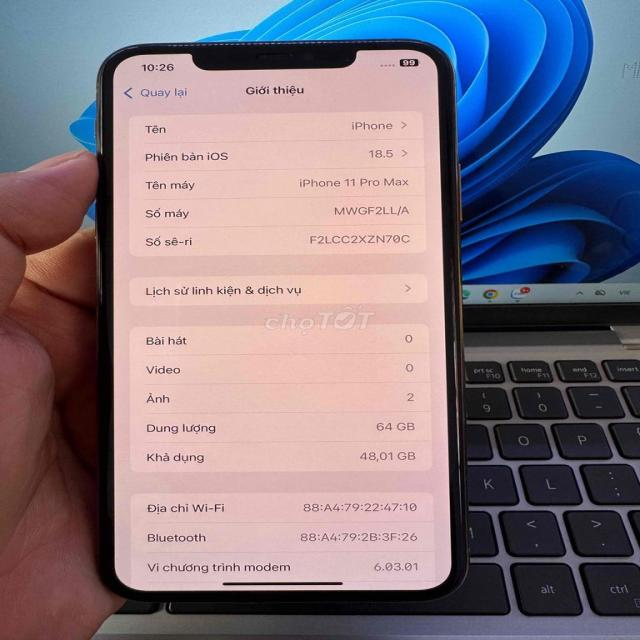gen_11: (95, 36, 466, 605)
